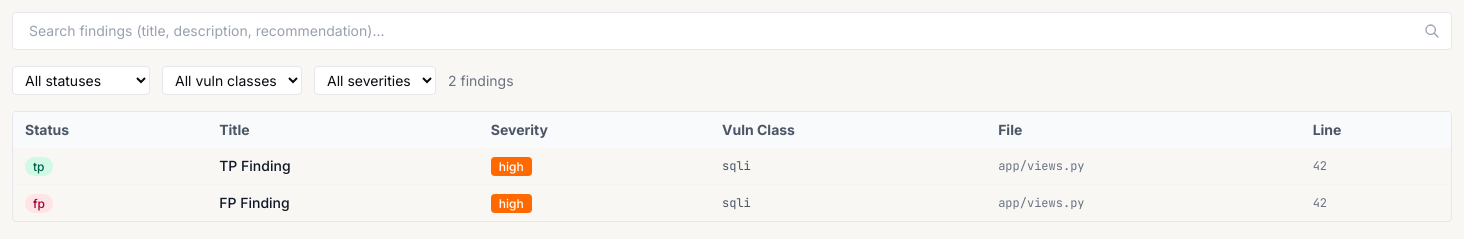
Test case: FindingsExplorer › filters by match status
The width and height of the screenshot is (1464, 239).
Select "False Positive" in the 1st dropdown at (81, 80), box [12,66,150,95]
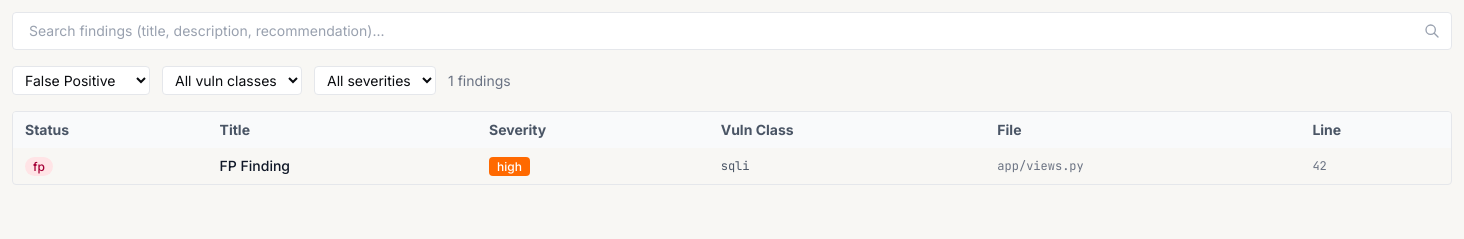
Check: the text "FP Finding" is shown, box [208,148,477,184]
Check: the text "TP Finding" is gone
